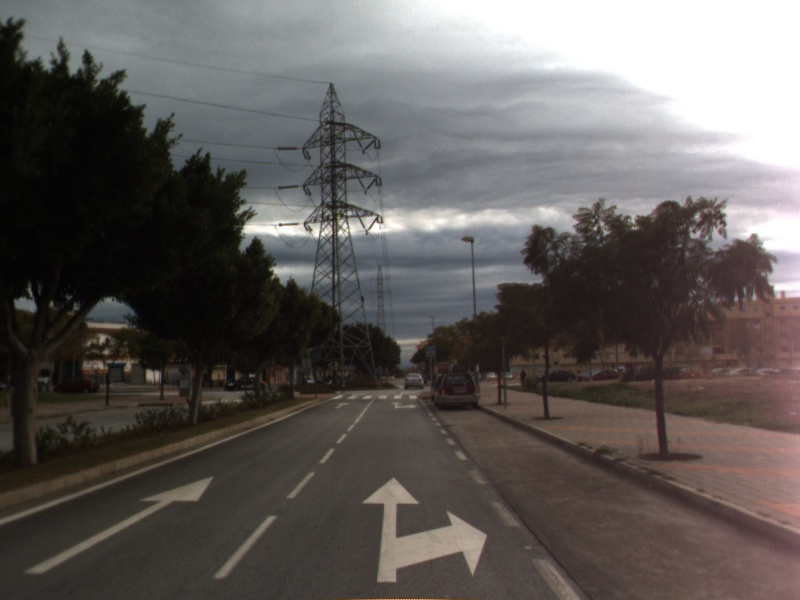STRAIGHT: (20, 474, 216, 576), (333, 400, 352, 410)
STRAIGHT_RIGHT: (360, 475, 489, 584), (389, 399, 420, 410)
